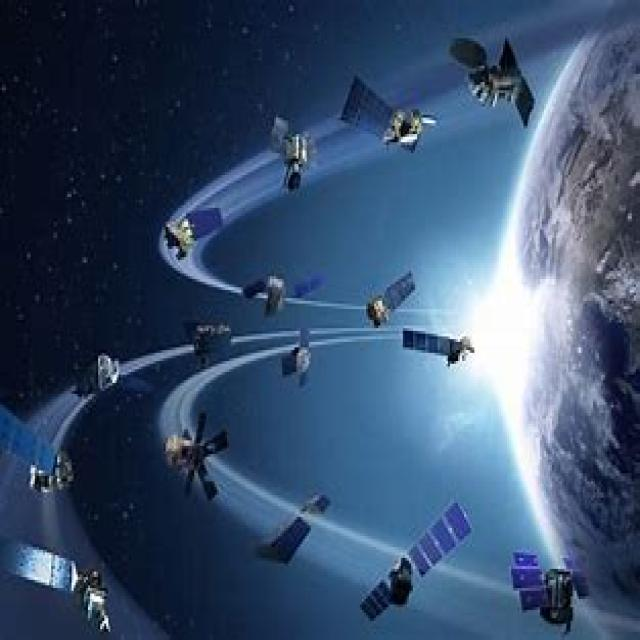satellite: (356, 492, 481, 638), (3, 527, 124, 631), (331, 74, 439, 169), (441, 36, 551, 122), (501, 544, 599, 640), (258, 467, 332, 578), (0, 405, 82, 500), (258, 116, 352, 190), (166, 409, 230, 510), (237, 259, 324, 324), (156, 194, 233, 258), (349, 286, 439, 332), (407, 331, 479, 376), (78, 346, 127, 406), (183, 320, 250, 360), (284, 329, 326, 389)
